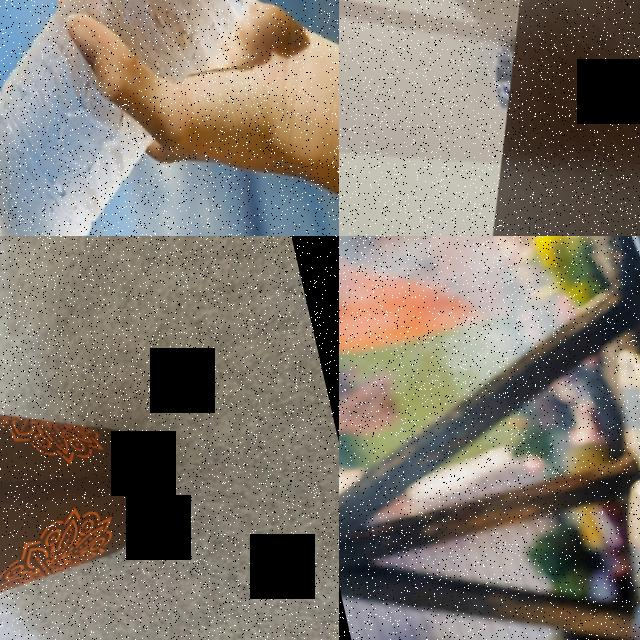bottle: (0, 0, 323, 236), (339, 185, 640, 236)
cup: (0, 321, 183, 640)
